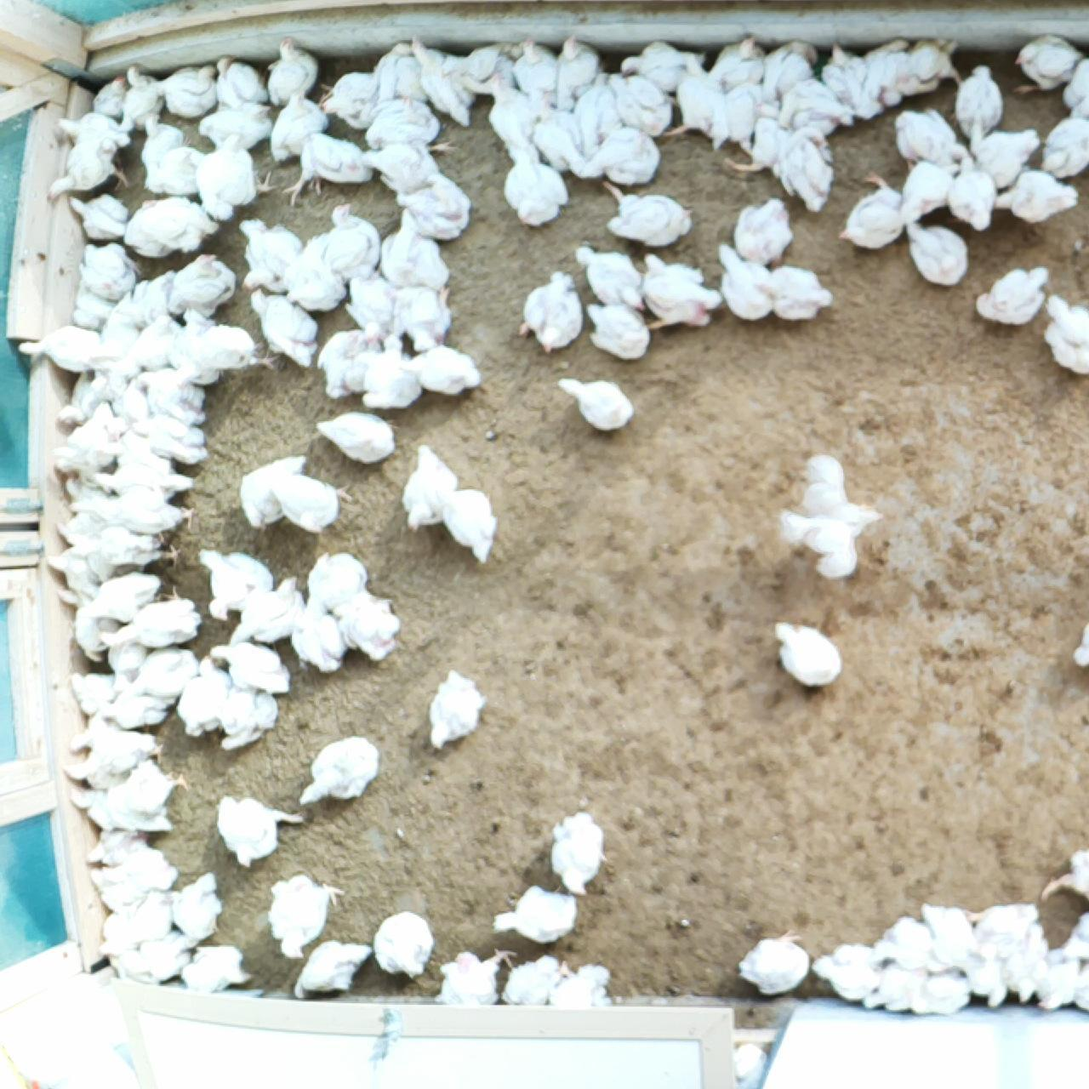chicken: (774, 447, 889, 587), (188, 132, 276, 221), (101, 578, 205, 653), (212, 788, 307, 868), (633, 252, 722, 337), (265, 864, 342, 961), (262, 464, 355, 540), (44, 130, 131, 209), (236, 447, 314, 535), (282, 131, 373, 206), (835, 161, 909, 253), (542, 802, 610, 902), (516, 262, 585, 360), (120, 190, 218, 259), (986, 161, 1081, 232), (598, 174, 691, 246), (497, 142, 571, 230), (228, 575, 310, 654), (310, 315, 387, 399), (295, 736, 383, 809), (249, 284, 320, 372), (409, 34, 475, 127), (198, 542, 274, 622), (436, 480, 503, 570), (181, 321, 283, 379), (378, 207, 449, 290), (206, 635, 296, 700), (420, 667, 490, 750), (491, 878, 579, 944), (356, 97, 456, 155), (572, 238, 650, 312), (281, 228, 348, 314), (358, 136, 459, 193), (714, 238, 777, 329), (64, 783, 174, 835), (970, 260, 1054, 328), (768, 616, 845, 690), (72, 490, 201, 534), (101, 755, 192, 817), (425, 943, 519, 1003), (770, 127, 836, 212), (1010, 24, 1089, 94), (888, 102, 969, 170), (735, 922, 812, 993), (311, 404, 396, 467), (402, 441, 459, 534), (236, 216, 301, 297), (166, 251, 241, 321), (293, 938, 375, 1001), (573, 125, 663, 182), (337, 586, 401, 666), (53, 403, 117, 483), (368, 904, 433, 982), (175, 650, 230, 742), (1034, 289, 1089, 381), (950, 59, 1004, 152), (160, 314, 226, 390), (267, 86, 332, 163), (64, 710, 166, 759), (661, 51, 717, 140), (705, 82, 774, 154), (403, 343, 485, 403), (581, 297, 652, 366), (617, 36, 706, 91), (291, 598, 353, 676), (901, 223, 968, 295), (753, 263, 830, 325), (811, 939, 884, 1004), (324, 202, 383, 282), (389, 280, 455, 351), (555, 372, 633, 432), (395, 178, 475, 236), (123, 929, 205, 985), (974, 125, 1045, 189), (133, 367, 210, 426), (600, 70, 674, 131), (532, 95, 589, 174), (127, 414, 209, 468), (437, 43, 516, 99), (214, 682, 278, 751), (483, 73, 539, 151), (194, 95, 272, 151), (131, 641, 201, 703), (19, 322, 104, 373), (95, 456, 194, 499), (903, 30, 966, 97), (819, 38, 871, 119), (164, 869, 225, 938), (309, 547, 370, 616), (89, 523, 180, 569), (94, 420, 176, 471), (261, 32, 319, 104), (732, 195, 795, 261), (341, 269, 395, 346), (134, 108, 184, 191), (548, 26, 599, 106), (914, 894, 973, 963), (153, 62, 224, 116), (964, 899, 1035, 952), (776, 77, 852, 126), (62, 742, 136, 792), (897, 161, 955, 224), (77, 244, 143, 299), (1040, 834, 1089, 908), (180, 943, 254, 992), (126, 107, 179, 175), (372, 37, 433, 96), (949, 154, 995, 232), (549, 956, 613, 1012), (1007, 922, 1050, 1005), (570, 68, 616, 145), (321, 64, 377, 127), (502, 951, 567, 1005), (112, 60, 166, 125), (726, 113, 785, 172), (709, 33, 769, 91), (758, 33, 815, 94), (911, 965, 975, 1019), (64, 188, 128, 242), (868, 34, 913, 110), (50, 108, 134, 148), (125, 887, 180, 948), (509, 35, 558, 102), (144, 143, 211, 192), (96, 627, 147, 691), (870, 916, 932, 968), (1037, 120, 1089, 182), (1034, 943, 1080, 1013), (212, 51, 267, 108), (67, 599, 115, 664), (127, 264, 177, 326), (44, 544, 101, 597), (861, 961, 921, 1009), (135, 311, 180, 375), (97, 292, 140, 358), (96, 899, 140, 962), (92, 688, 163, 726), (88, 357, 143, 406), (84, 827, 148, 868), (1053, 50, 1089, 118), (64, 668, 117, 714), (124, 842, 174, 889), (88, 76, 134, 121), (972, 958, 1012, 1009), (56, 508, 106, 545), (61, 370, 94, 424), (70, 279, 107, 327), (116, 376, 153, 422), (89, 868, 136, 904), (1065, 907, 1089, 966), (62, 474, 101, 502)
